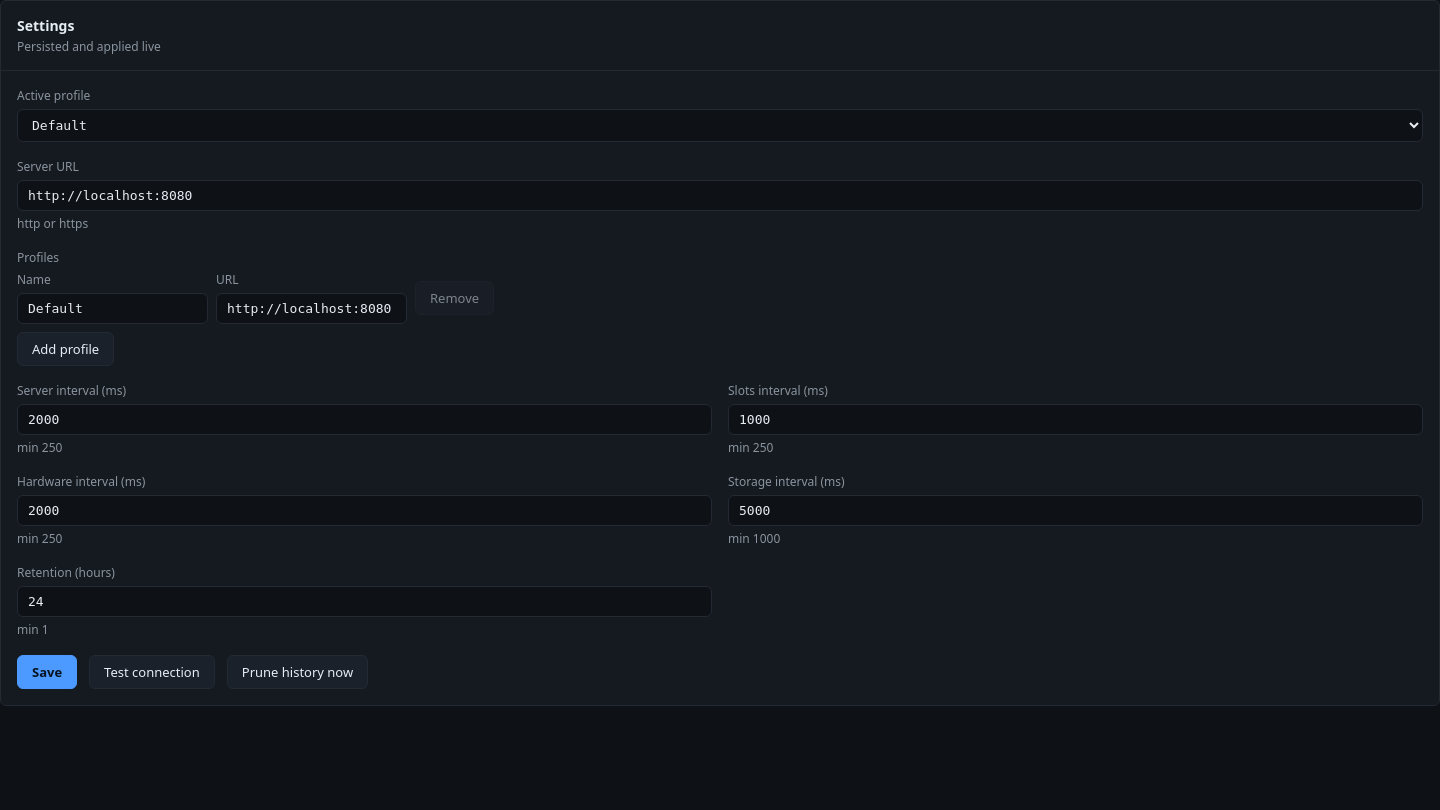
Test: Settings › should save edited settings through update_settings
Replace the text in the field labelled "Server URL" with "http://example.test:9999" at (720, 196), box 17,180 -> 1423,211
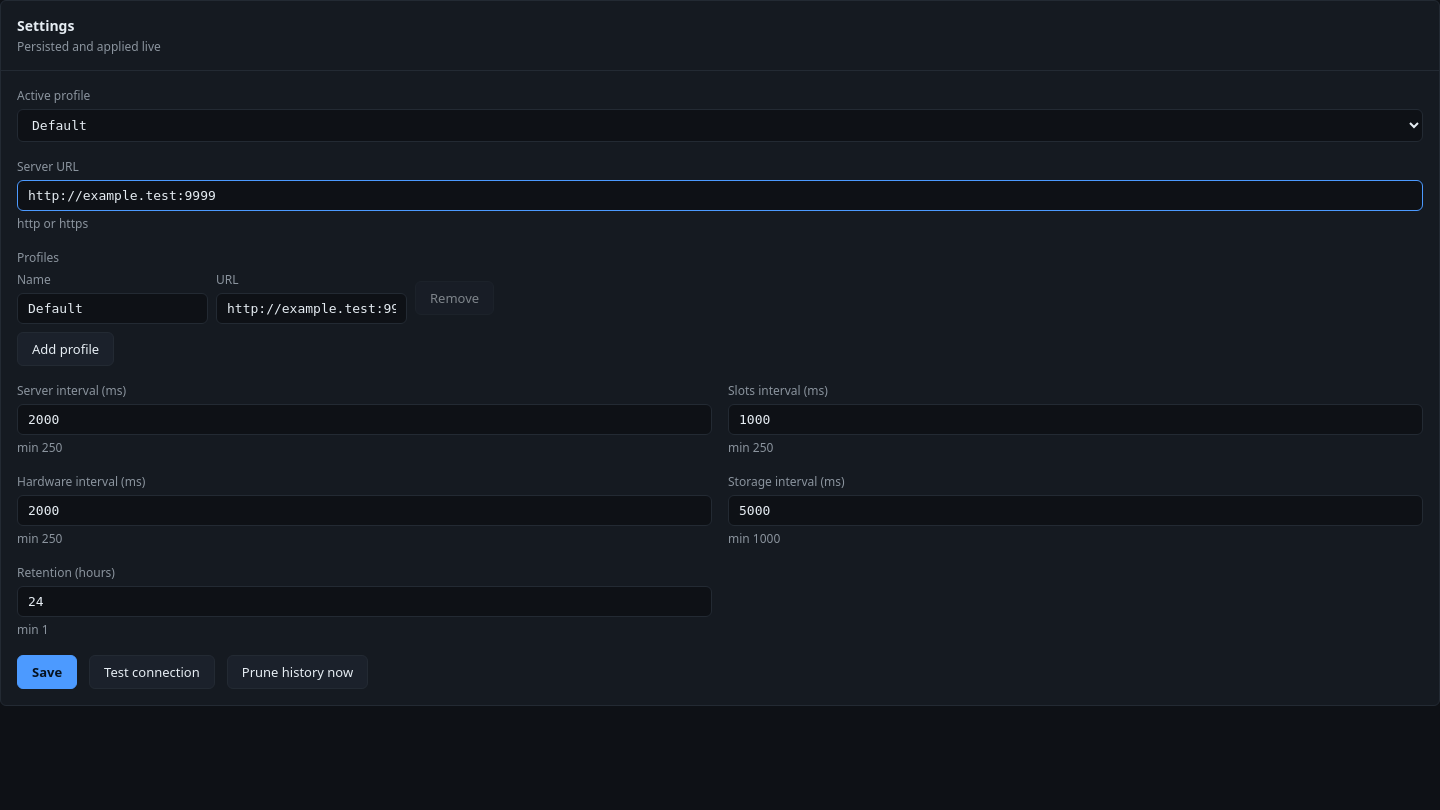
Click the button "Save" at (47, 672), box 17,655 -> 77,689
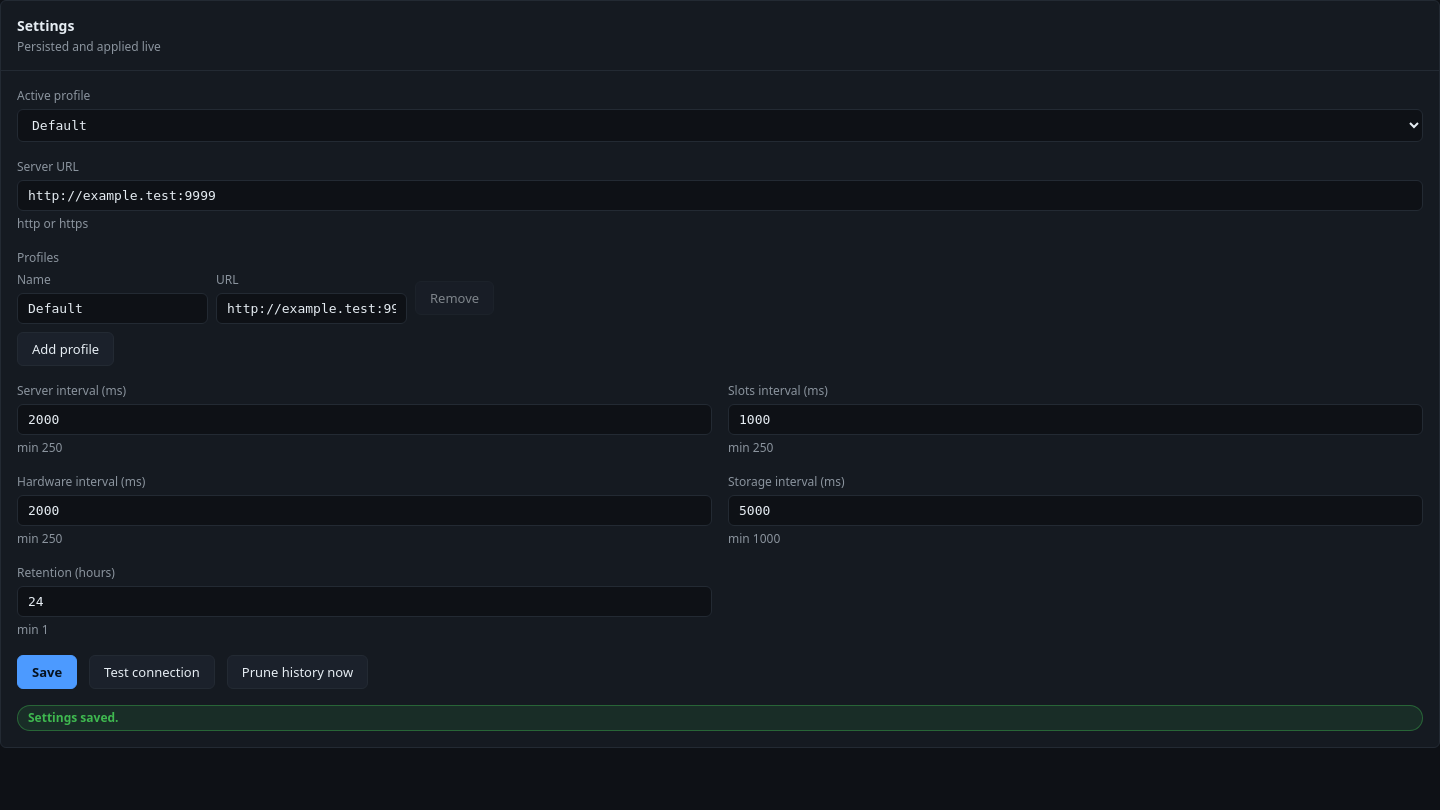
Result: the text "Settings saved." is shown at 17,705 -> 1423,731
